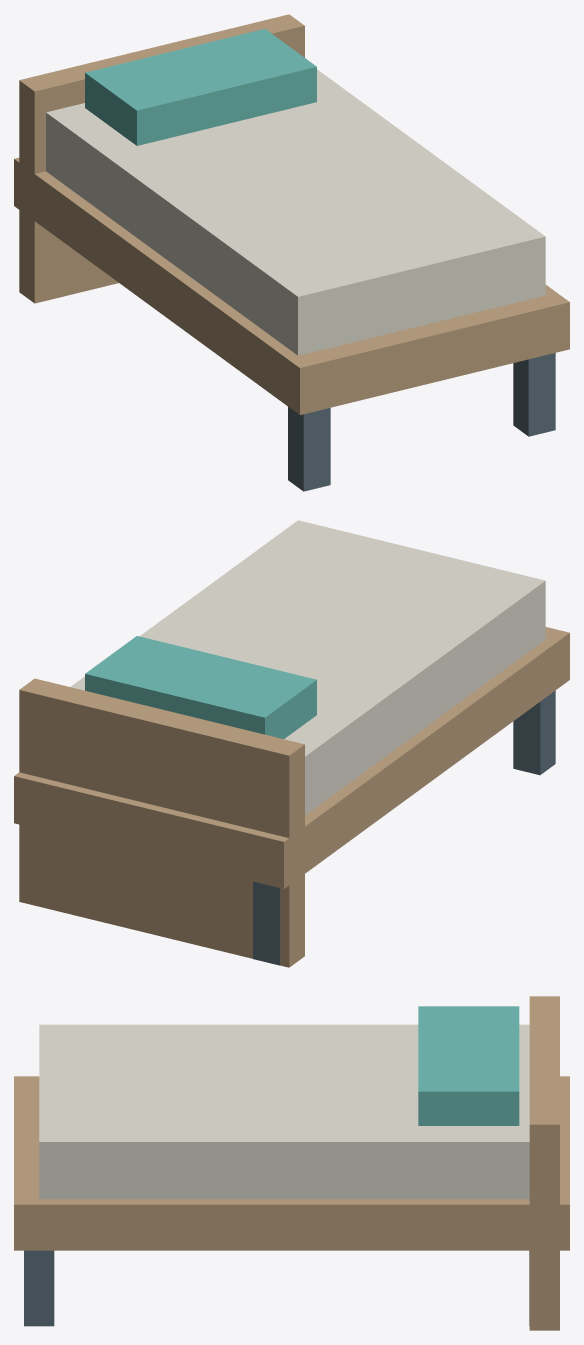
File: voxel-city-districts-single-bed-2f3f87b4__24895.glb
3 renders of one model, top to bottom at view 1: azimuth 30°, elevation 25°; view 2: azimuth 150°, elevation 25°; view 3: azimuth 270°, elevation 25°, orthographic. The views are drawn at different scales.
Visible parts, largest first — view 1: single-bed-concrete, single-bed-wood, single-bed-accent, single-bed-dark; view 2: single-bed-wood, single-bed-concrete, single-bed-accent, single-bed-dark; view 3: single-bed-concrete, single-bed-wood, single-bed-accent, single-bed-dark.
Boxes of the visible parts, x1,y1,x2,y2 form: single-bed-concrete: [46, 69, 545, 355]; single-bed-wood: [14, 14, 569, 414]; single-bed-accent: [85, 29, 316, 145]; single-bed-dark: [288, 353, 555, 491]; single-bed-wood: [14, 627, 569, 967]; single-bed-concrete: [70, 520, 545, 815]; single-bed-accent: [85, 636, 316, 738]; single-bed-dark: [253, 690, 555, 965]; single-bed-concrete: [39, 1024, 529, 1199]; single-bed-wood: [14, 996, 569, 1330]; single-bed-accent: [418, 1006, 519, 1125]; single-bed-dark: [24, 1250, 529, 1326].
Bounding box in the file's own units: 1.2 × 0.95 × 2.2.
